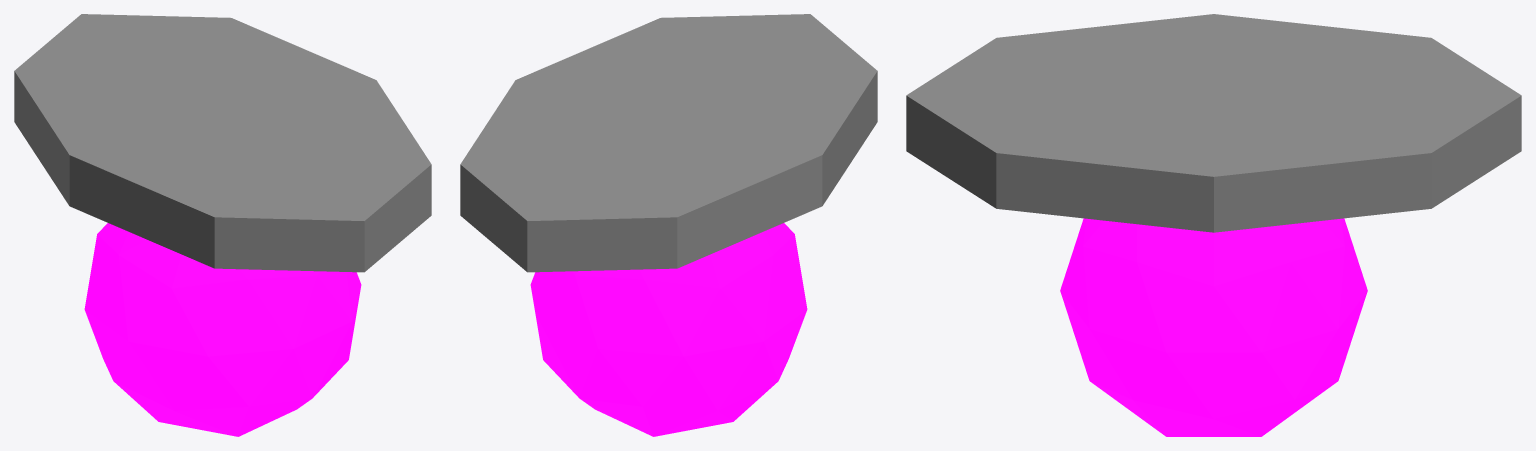
The model's file is InvaderWarpFuelCarrier.dae.
The picture shows the model from 3 angles, left to right: view 1: azimuth 30°, elevation 25°; view 2: azimuth 150°, elevation 25°; view 3: azimuth 270°, elevation 25°; orthographic projection. The views are drawn at different scales.
Parts seen in each view (by area): view 1: Icosphere; view 2: Icosphere; view 3: Icosphere.
Part boxes in pixels (x1,y1,x2,y2): Icosphere: (14,14,431,436); Icosphere: (460,14,877,436); Icosphere: (906,14,1521,436).
Size of the model in its own units: 0.6263 by 1 by 0.6.
